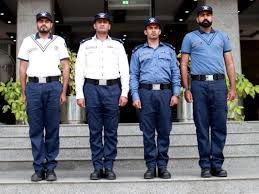uniform: (79, 35, 126, 174), (131, 39, 179, 173)
